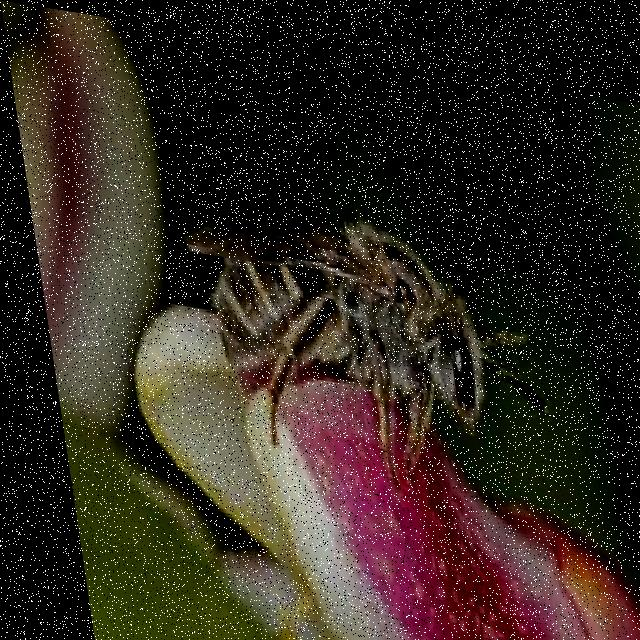Lasioglossum: (163, 184, 550, 467)
